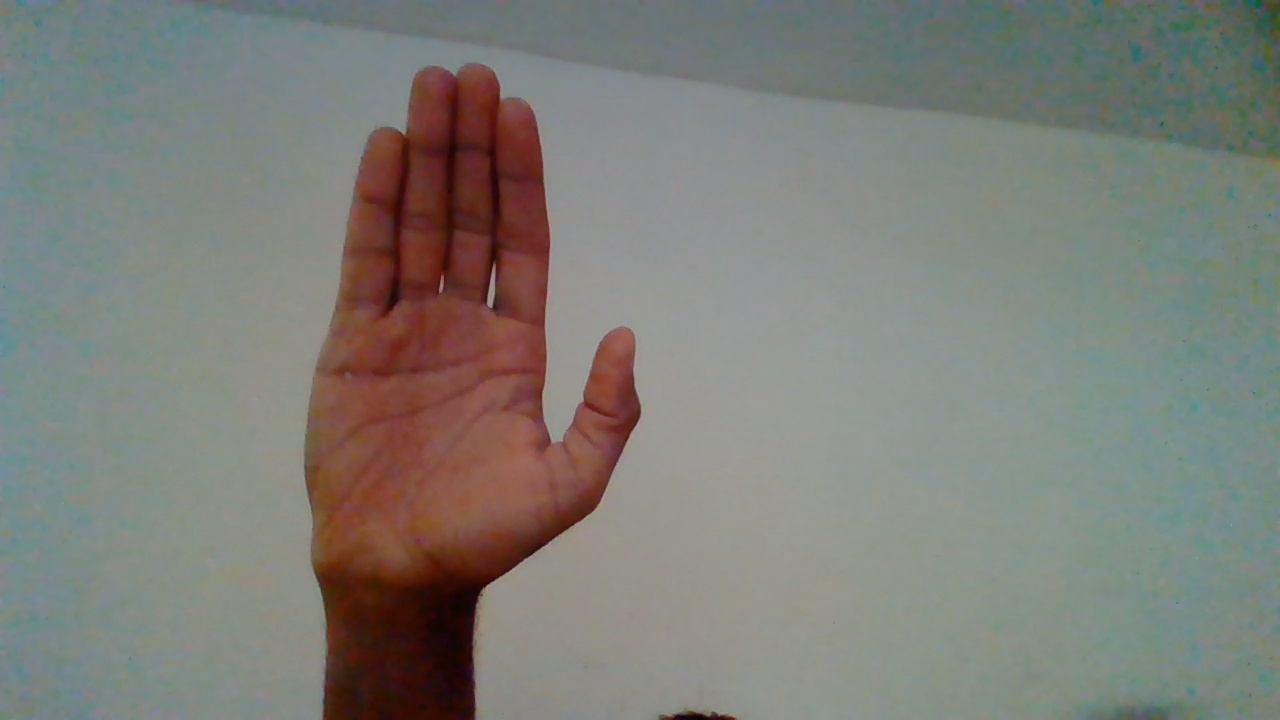ha: (306, 61, 647, 693)
